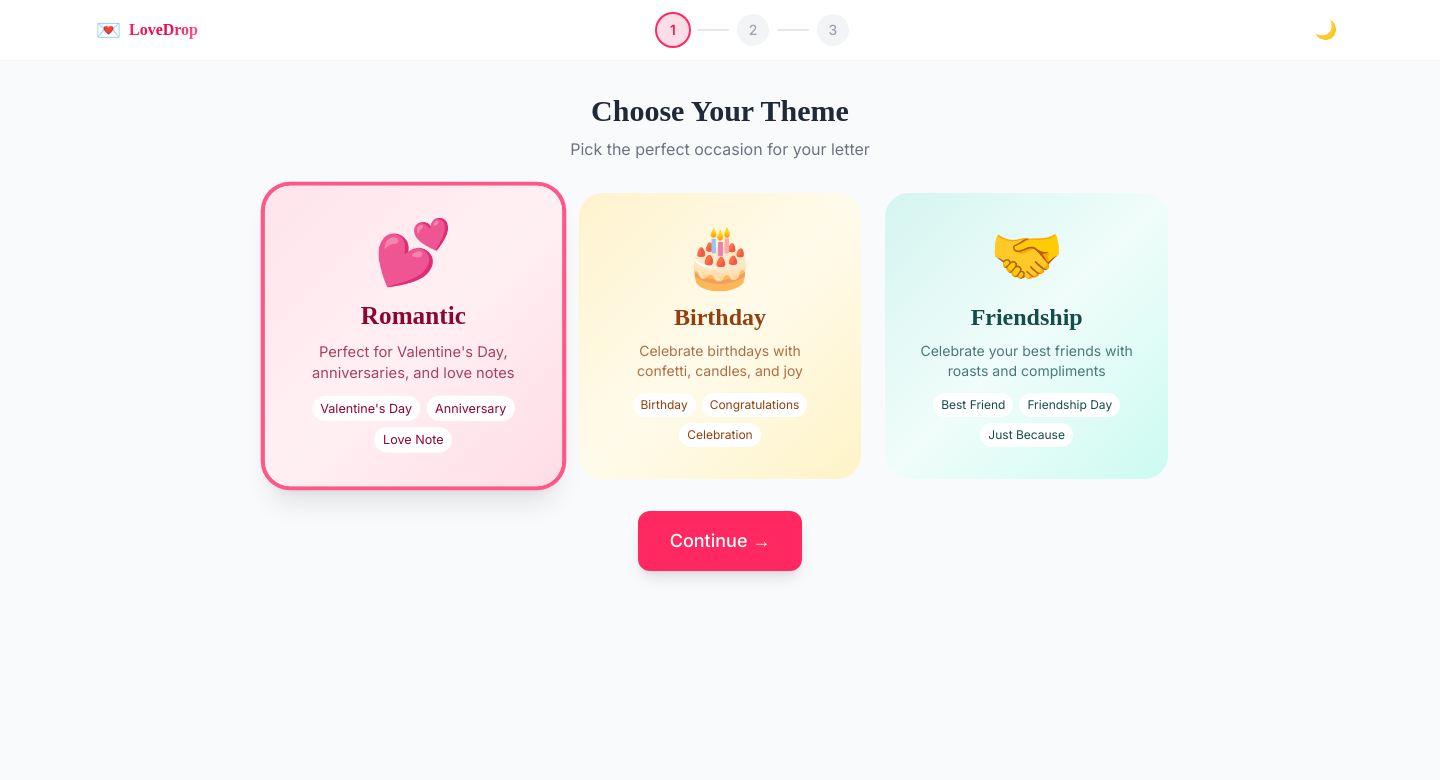
Create flow - Step 2: Letter editing › toggles decoration on click
This screenshot has width=1440, height=780.
Click the button "Continue →": {"x": 720, "y": 541} [638, 511, 802, 571]
(page scrolled)
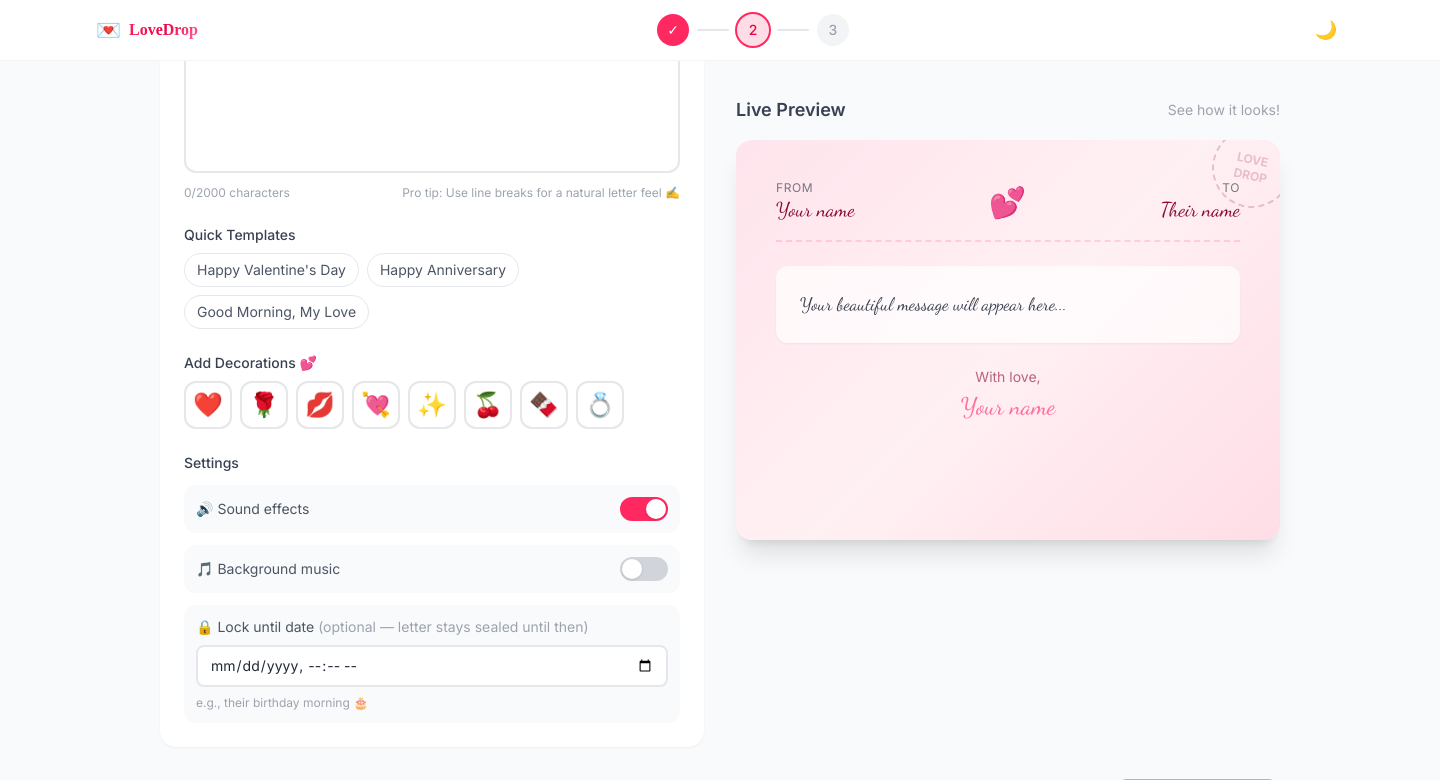
Click the button titled "Heart": {"x": 208, "y": 405} [184, 381, 232, 429]
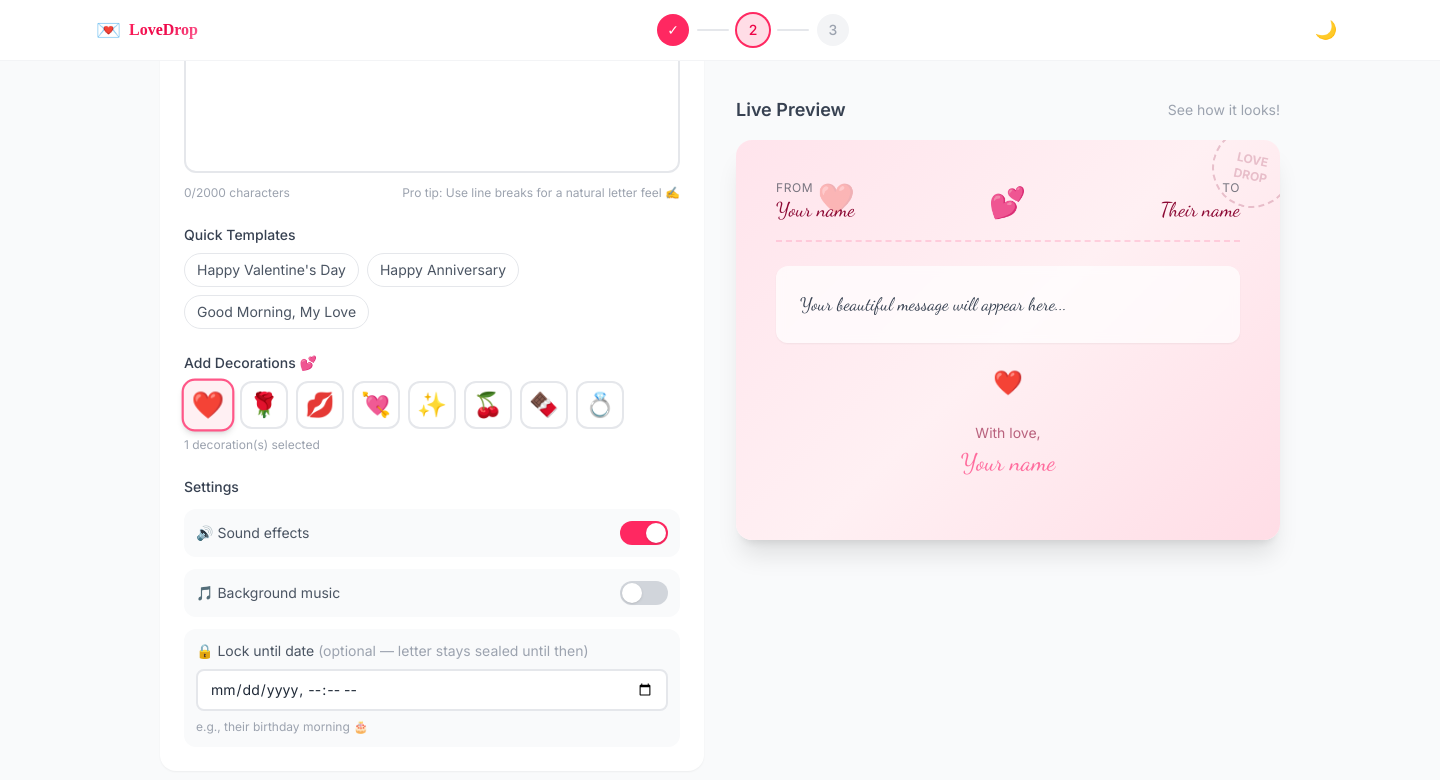
Expected: the text "1 decoration(s) selected" is shown, [184, 437, 320, 452]
Click the button titled "Heart": {"x": 208, "y": 405} [182, 379, 234, 431]
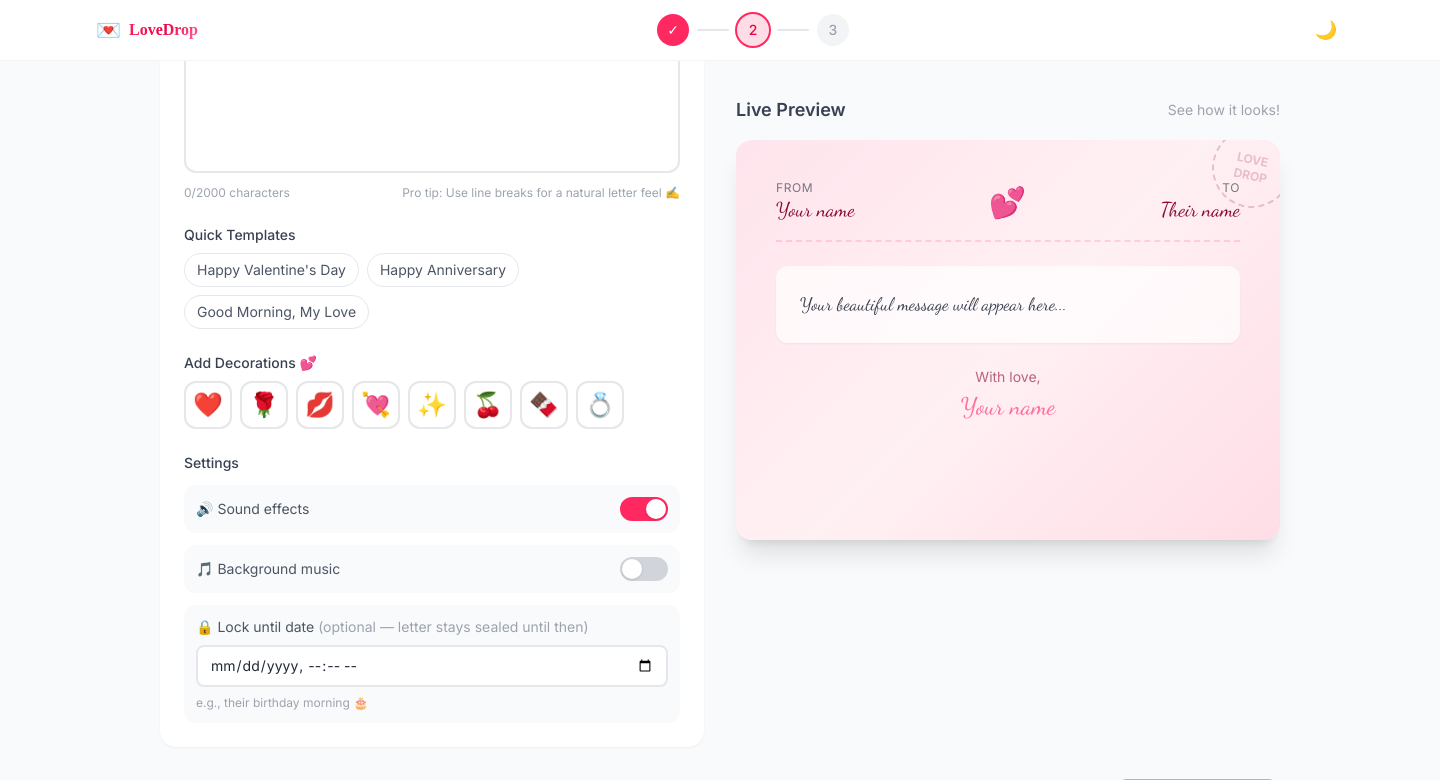
Expected: the text "1 decoration" is gone
